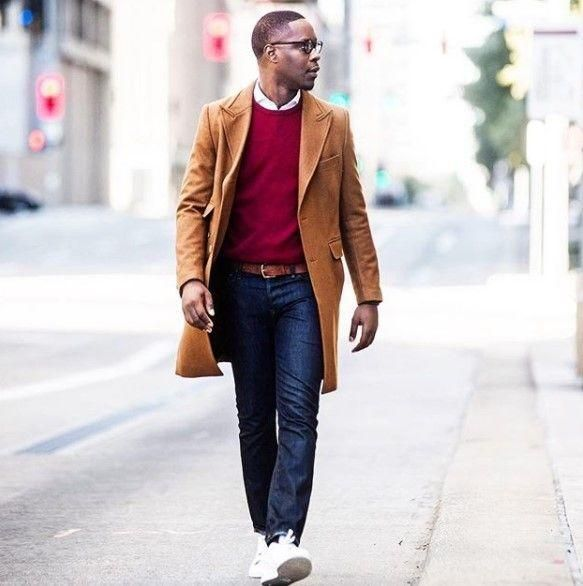person: (169, 6, 386, 586)
